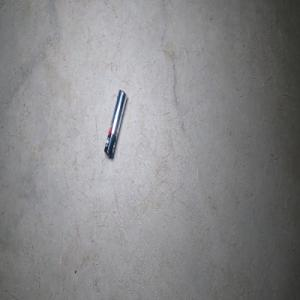Battery: (103, 89, 127, 158)
